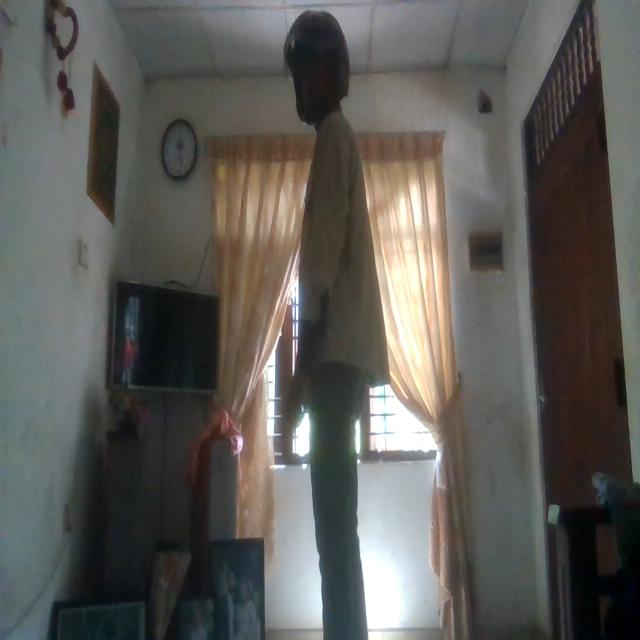Helmet_Wearer: (284, 6, 350, 124)
Jacket_Wearer: (283, 107, 389, 397)
Person: (272, 2, 389, 640)
